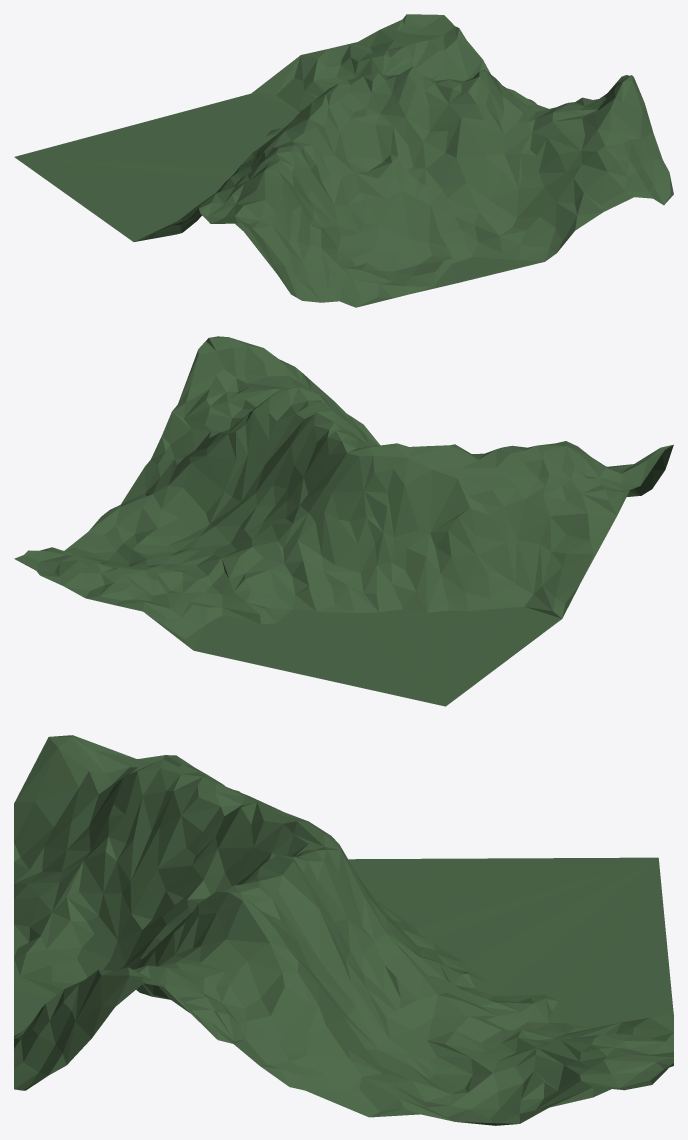
Rendered from SM_landscape_05.fbx.
The picture shows the model from 3 angles, top to bottom: view 1: azimuth 30°, elevation 25°; view 2: azimuth 150°, elevation 25°; view 3: azimuth 270°, elevation 25°; orthographic projection. The views are drawn at different scales.
Visible parts, largest first — view 1: landscape_05; view 2: landscape_05; view 3: landscape_05.
Boxes of the visible parts, <box> form: landscape_05: <box>14,14,673,307</box>; landscape_05: <box>14,336,673,706</box>; landscape_05: <box>14,735,673,1125</box>.
Size of the model in its own units: 885 by 250 by 880.
